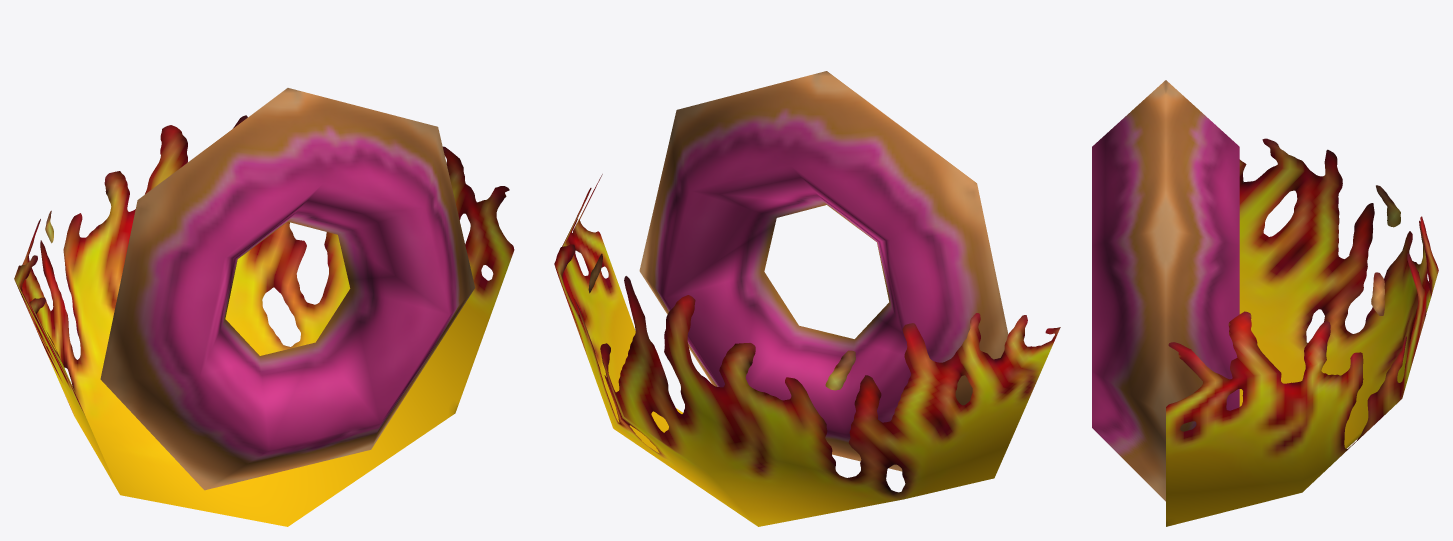
The model's file is Boost_burned_donut.FBX.
3 renders of one model, left to right at view 1: azimuth 30°, elevation 25°; view 2: azimuth 150°, elevation 25°; view 3: azimuth 270°, elevation 25°, orthographic.
Visible parts, largest first — view 1: Shielded_donut, Shield; view 2: Shielded_donut, Shield; view 3: Shield, Shielded_donut.
Part boxes in pixels (box(x1,y1,x2,y2)): Shielded_donut: box(100, 88, 474, 490); Shield: box(14, 115, 514, 526); Shielded_donut: box(639, 71, 1008, 471); Shield: box(554, 174, 1060, 526); Shield: box(1166, 138, 1438, 526); Shielded_donut: box(1092, 80, 1239, 501).
Bounding box in the file's own units: 7.4 × 7.4 × 4.7.
